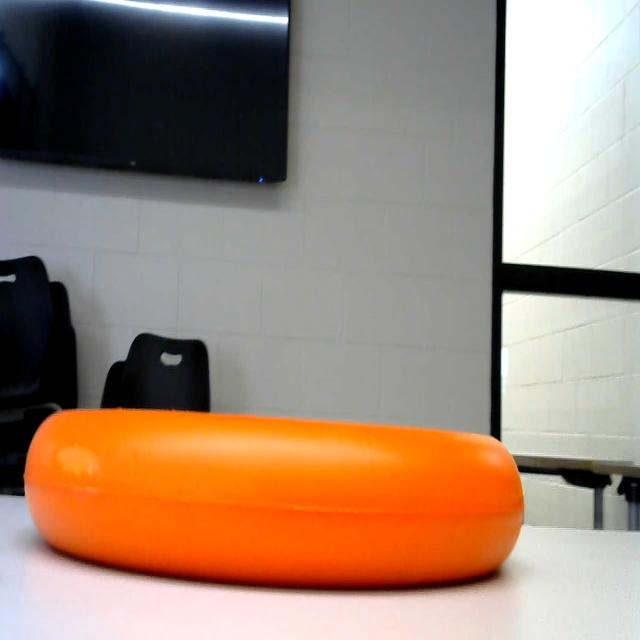note: (11, 378, 538, 598)
